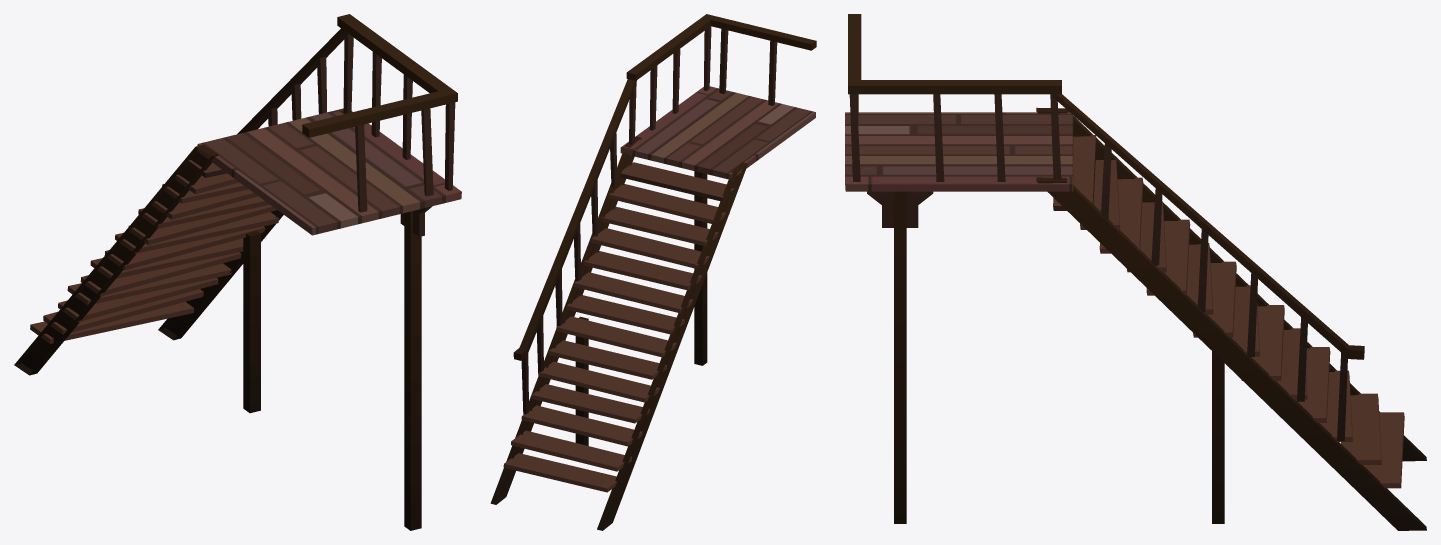
The model's file is Deck Stairs 2.glb.
3 views of the same model, side by side, from view 1: azimuth 30°, elevation 25°; view 2: azimuth 150°, elevation 25°; view 3: azimuth 270°, elevation 25° (orthographic). The views are drawn at different scales.
Visible parts, largest first — view 1: Deck Stairs v02; view 2: Deck Stairs v02; view 3: Deck Stairs v02.
Boxes of the visible parts, x1,y1,x2,y2 form: Deck Stairs v02: (14,14,461,530); Deck Stairs v02: (490,14,816,530); Deck Stairs v02: (845,14,1426,530).
Size of what is drawn, in the model's own units: 1.71 by 4.74 by 5.62.
Materials: 2 (2 with a texture image).
